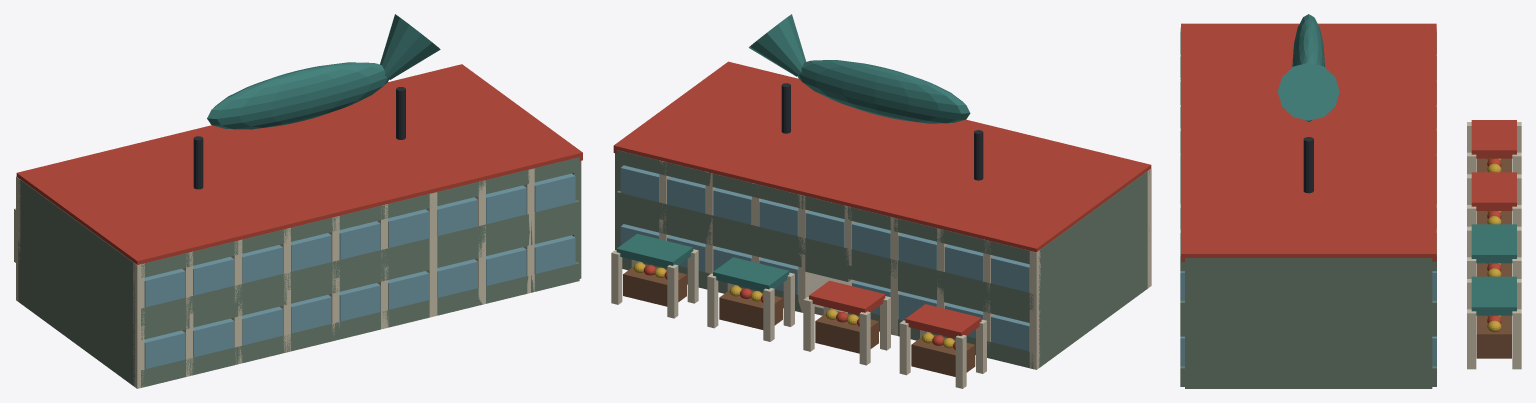
File: picky-place.glb
3 renders of one model, left to right at view 1: azimuth 30°, elevation 25°; view 2: azimuth 150°, elevation 25°; view 3: azimuth 270°, elevation 25°, orthographic. The views are drawn at different scales.
Parts seen in each view (by area): view 1: picky-place; view 2: picky-place; view 3: picky-place.
Boxes of the visible parts, x1,y1,x2,y2 form: picky-place: (14,14,582,388); picky-place: (611,14,1151,388); picky-place: (1180,14,1521,388).
Bounding box in the file's own units: 26.44 × 14.06 × 16.54.
